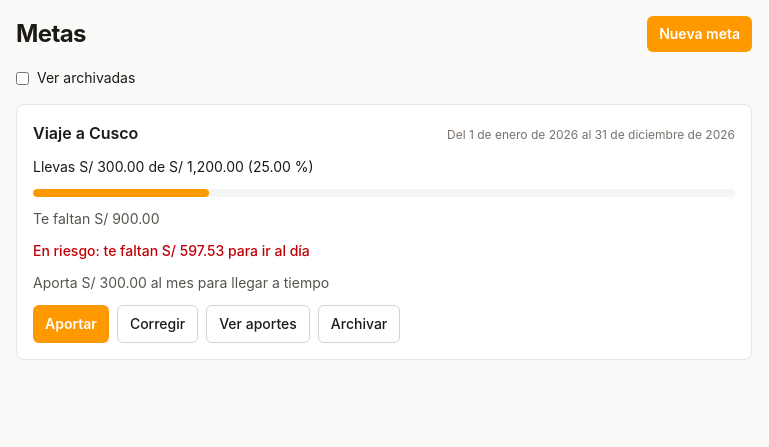
it: GoalsScreen › says why a linked contribution no longer counts
The image size is (769, 447).
Click the button "Ver aportes" at (258, 324), box x1=206 y1=305 x2=310 y2=343
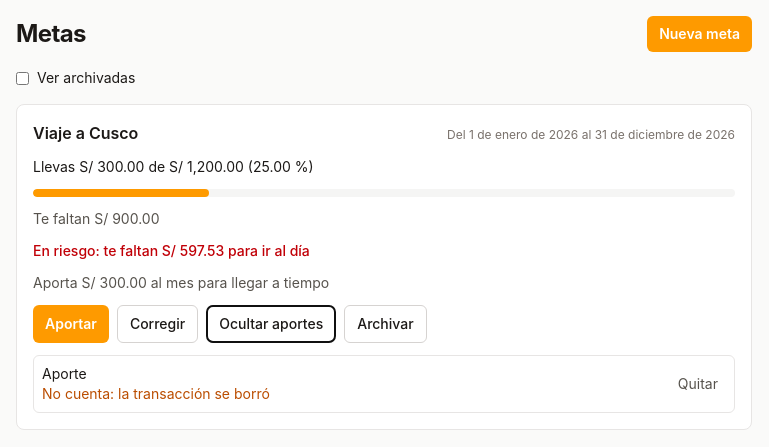
Now the text "No cuenta: la transacción se borró" is shown, box x1=42 y1=384 x2=270 y2=404
